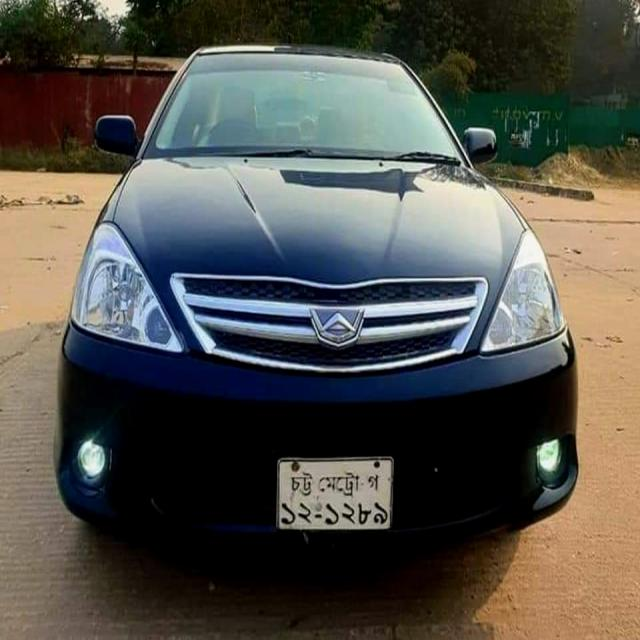blue: (58, 44, 580, 534)
